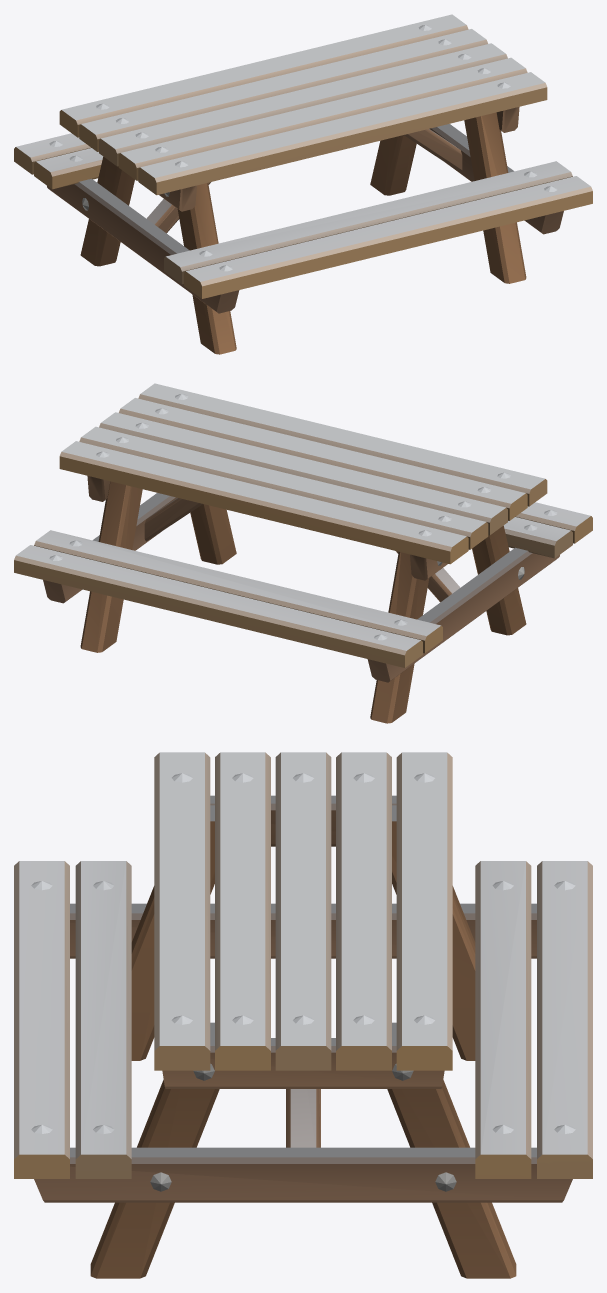
Rendered from picnic.glb.
The picture shows the model from 3 angles, top to bottom: view 1: azimuth 30°, elevation 25°; view 2: azimuth 150°, elevation 25°; view 3: azimuth 270°, elevation 25°; orthographic projection. The views are drawn at different scales.
Parts seen in each view (by area): view 1: picnic; view 2: picnic; view 3: picnic.
Part boxes in pixels (x1,y1,x2,y2): picnic: (14, 14, 592, 354); picnic: (14, 383, 592, 723); picnic: (14, 752, 592, 1278).
Size of the model in its own units: 2.16 by 0.9168 by 1.8.
